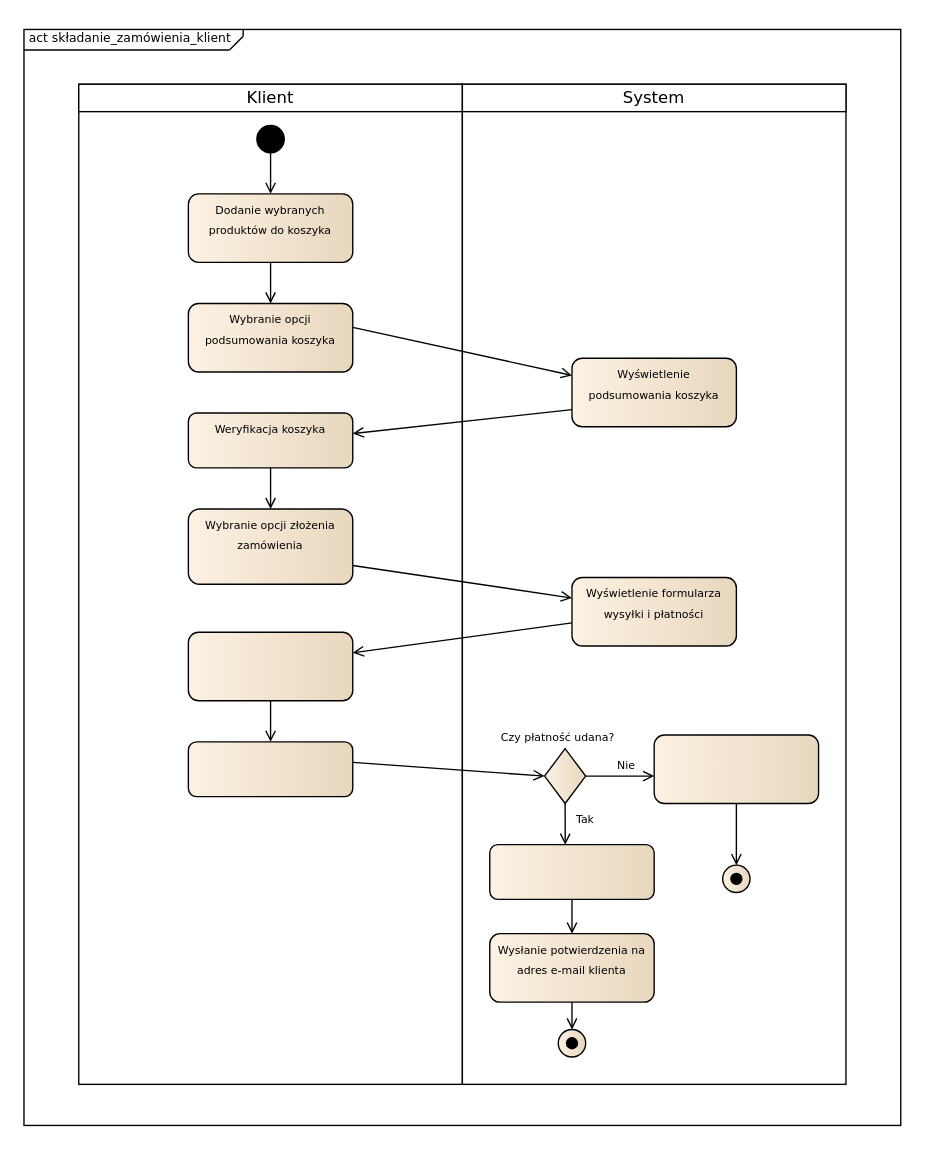
Some shapes in this 925 by 1151 pixel diagram are drawn without their labels. Here are the shapes that lost their labels. From the top down, the centre of each, then its label:
point 270,666: Wypełnienie formularza wysyłki i płatności
point 270,768: Realizacja płatności
point 736,769: Wyświetlenie komunikatu o błędzie podczas płatności
point 571,871: Przetworzenie zamówienia
